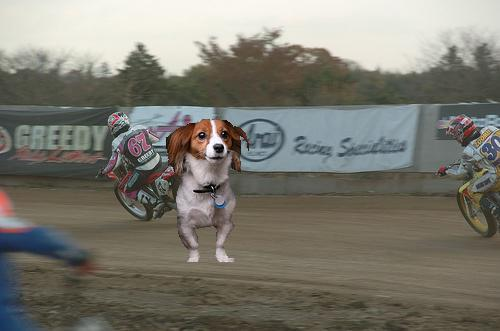tampered: (167, 120, 249, 262)
